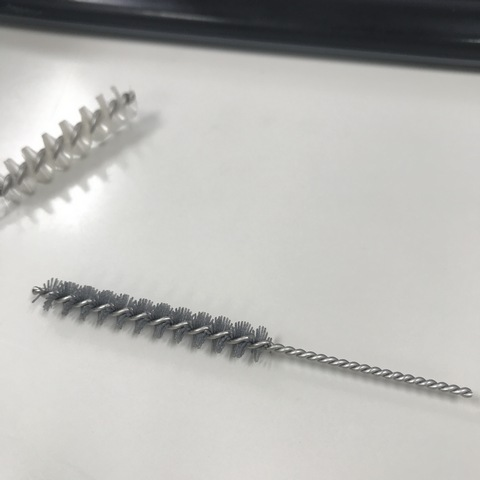Twist Brush-A: (28, 272, 473, 400)
Twist Brush-B: (1, 83, 144, 200)
